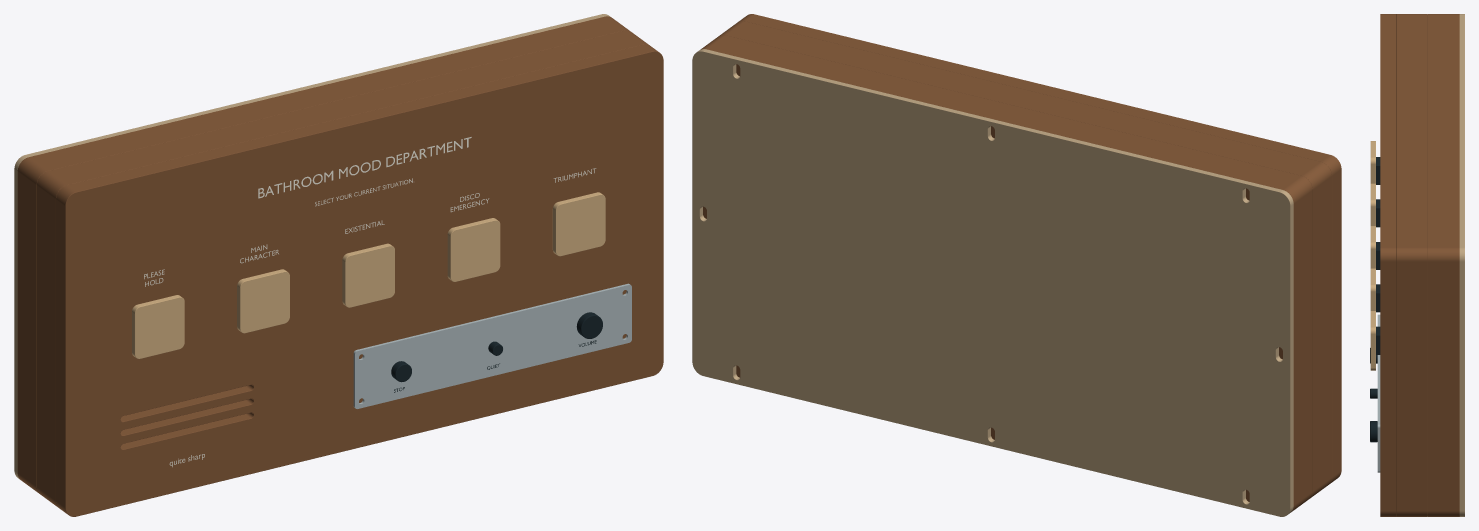
3 views of the same model, side by side, from view 1: azimuth 30°, elevation 25°; view 2: azimuth 150°, elevation 25°; view 3: azimuth 270°, elevation 25° (orthographic). The views are drawn at different scales.
Parts seen in each view (by area): view 1: Walnut face with rear recess.001, Walnut frame lower.001, Walnut frame upper.001, Control plate | actual control bores held.001, Removable plywood back.001, DISCO EMERGENCY | ash button.001, TRIUMPHANT | ash button.001, EXISTENTIAL | ash button.001, MAIN CHARACTER | ash button.001, PLEASE HOLD | ash button.001, Department title.001; view 2: Removable plywood back.001, Walnut frame lower.001, Walnut frame upper.001, Walnut face with rear recess.001; view 3: Walnut frame lower.001, Walnut frame upper.001, Walnut face with rear recess.001, Removable plywood back.001, Control plate | actual control bores held.001, TRIUMPHANT | ash button.001, EXISTENTIAL | ash button.001, PLEASE HOLD | ash button.001, DISCO EMERGENCY | ash button.001, MAIN CHARACTER | ash button.001, VOLUME | unmeasured visible control.001, Keycap adapter | placeholder.006 (+4 smaller).
Part boxes in pixels (<box>): Walnut face with rear recess.001: <box>56,44,663,516</box>; Walnut frame lower.001: <box>17,16,629,493</box>; Walnut frame upper.001: <box>37,30,649,506</box>; Control plate | actual control bores held.001: <box>353,283,631,408</box>; Removable plywood back.001: <box>14,14,610,479</box>; DISCO EMERGENCY | ash button.001: <box>447,218,500,281</box>; TRIUMPHANT | ash button.001: <box>552,192,605,256</box>; EXISTENTIAL | ash button.001: <box>342,243,394,307</box>; MAIN CHARACTER | ash button.001: <box>237,269,289,333</box>; PLEASE HOLD | ash button.001: <box>132,295,184,358</box>; Department title.001: <box>258,137,471,198</box>; Removable plywood back.001: <box>692,49,1293,516</box>; Walnut frame lower.001: <box>700,35,1312,511</box>; Walnut frame upper.001: <box>719,21,1331,498</box>; Walnut face with rear recess.001: <box>738,14,1341,483</box>; Walnut frame lower.001: <box>1428,14,1459,516</box>; Walnut frame upper.001: <box>1396,14,1427,516</box>; Walnut face with rear recess.001: <box>1380,14,1395,516</box>; Removable plywood back.001: <box>1459,14,1464,516</box>; Control plate | actual control bores held.001: <box>1377,314,1380,472</box>; TRIUMPHANT | ash button.001: <box>1370,311,1375,370</box>; EXISTENTIAL | ash button.001: <box>1370,226,1375,268</box>; PLEASE HOLD | ash button.001: <box>1370,141,1375,183</box>; DISCO EMERGENCY | ash button.001: <box>1370,268,1375,310</box>; MAIN CHARACTER | ash button.001: <box>1370,183,1375,225</box>; VOLUME | unmeasured visible control.001: <box>1370,421,1377,442</box>; Keycap adapter | placeholder.006: <box>1376,199,1380,227</box>.
Size of the model in its own units: 0.3429 by 0.1778 by 0.0569.
